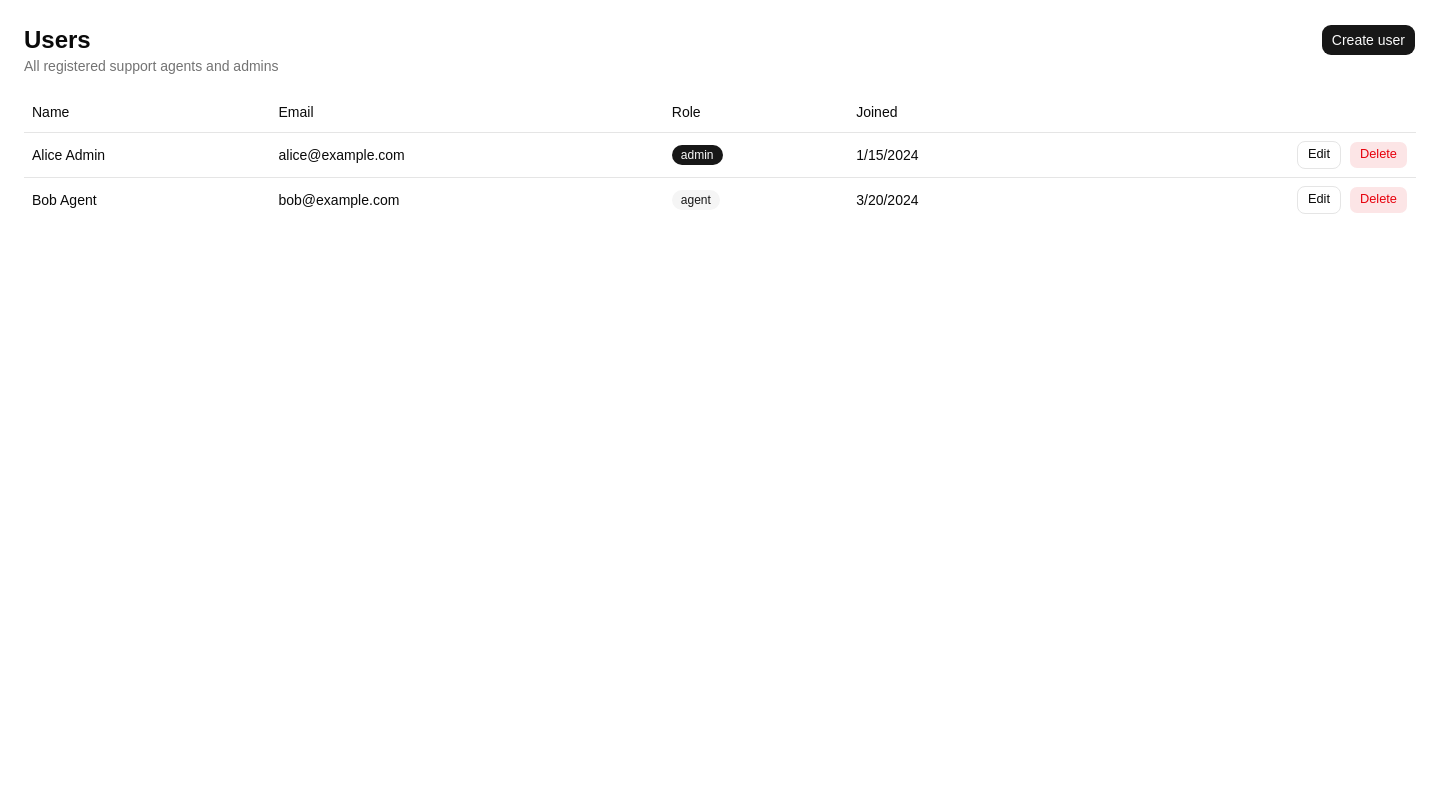
UsersPage › opens the Create user dialog when the button is clicked
Step 1. Click the button "Create user" → (1368, 40), box x1=1321 y1=24 x2=1416 y2=56
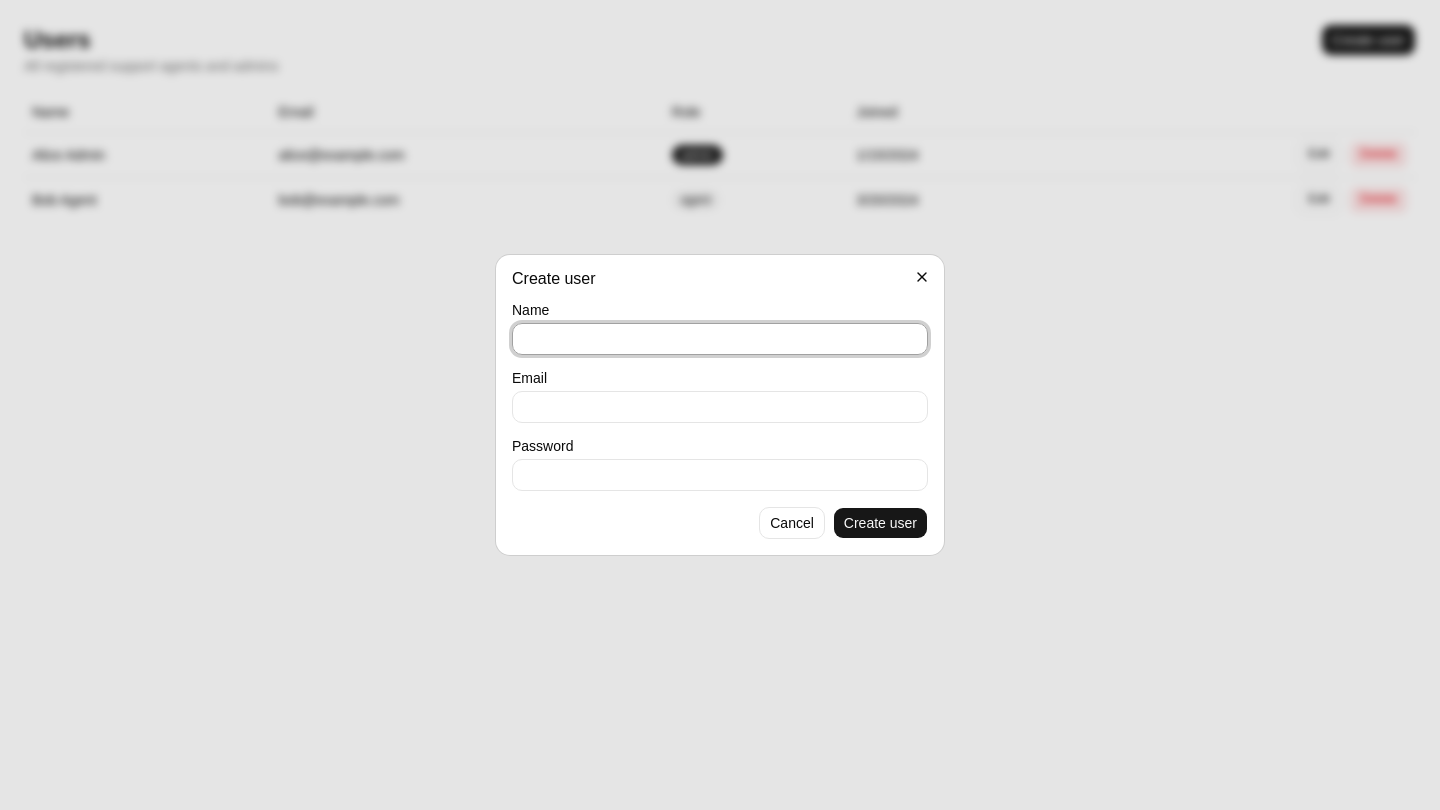
Result: the dialog "Create user" is shown at x1=496 y1=255 x2=944 y2=555
